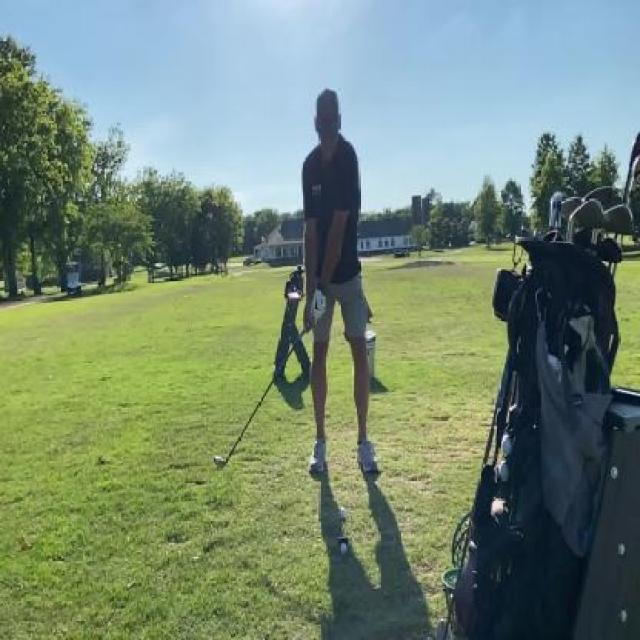club head: (213, 450, 232, 468)
